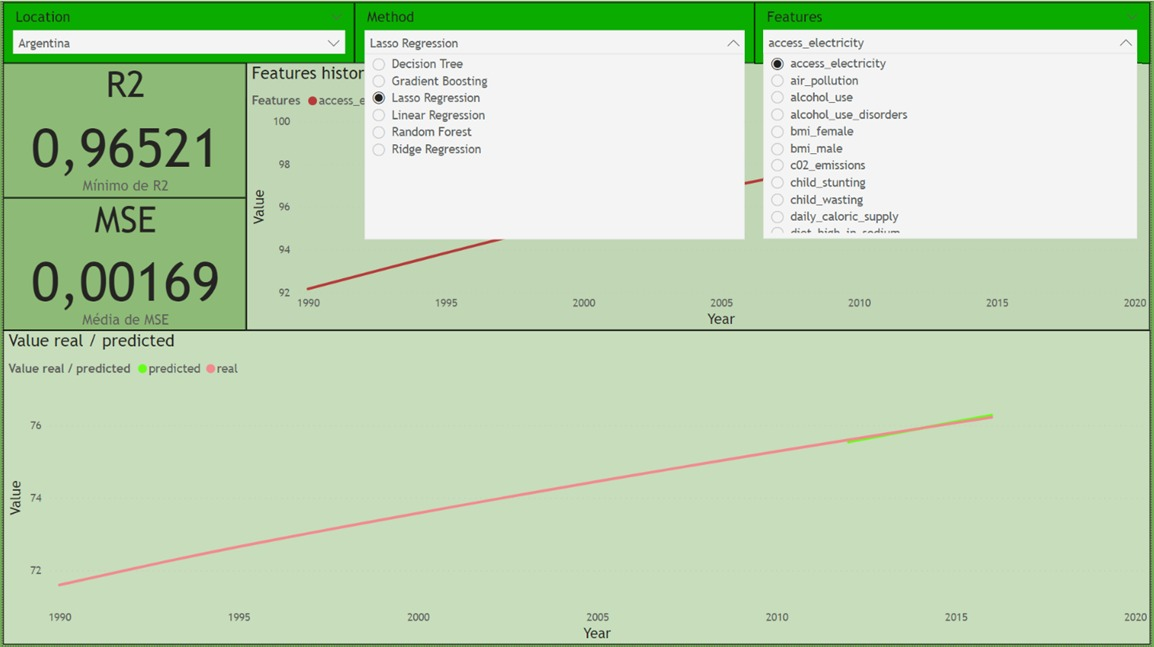

Layout of this report page (visuals, bound fields, positions):
{"tool":"powerbi","page":{"name":"Dashboard","canvas":[1280,720],"ordinal":0},"visuals":[{"type":"lineChart","title":"Value real / predicted","fields":{"Y":["Sum(results.valor)"],"Series":["results.valor_type"],"Category":["results.year"]},"box":[0,368.1,1279.7,351],"z":0},{"type":"slicer","fields":{"Values":["results.location"]},"box":[0,1.8,392.2,69],"z":1000},{"type":"slicer","fields":{"Values":["results.method"]},"box":[391.9,1.5,446.2,69],"z":2000},{"type":"card","title":"R2","fields":{"Values":["Min(results_metricas.r2)"]},"box":[0,69,271.3,151.3],"z":3000},{"type":"card","title":"MSE","fields":{"Values":["Avg(results_metricas.mse)"]},"box":[0,220.3,271.3,147.8],"z":4000},{"type":"lineChart","title":"Features history","fields":{"Category":["final_table.year"],"Y":["Sum(final_table.Value)"],"Series":["final_table.Attribute"]},"box":[271.3,69,1008.4,299.1],"z":5000},{"type":"slicer","fields":{"Values":["final_table.Attribute"]},"box":[838.2,1.8,441.5,69],"z":6000}]}

Visuals, with their boxes in screenshot pixels (x1, y1, x2, y2), scaled from the page's 1280x720 canvas onto the 1154x647 screenshot:
"Value real / predicted" lineChart: region(0, 331, 1153, 646)
slicer - results.location: region(0, 2, 354, 64)
slicer - results.method: region(353, 1, 756, 63)
"R2" card: region(0, 62, 245, 198)
"MSE" card: region(0, 198, 245, 331)
"Features history" lineChart: region(245, 62, 1153, 331)
slicer - final_table.Attribute: region(756, 2, 1153, 64)
